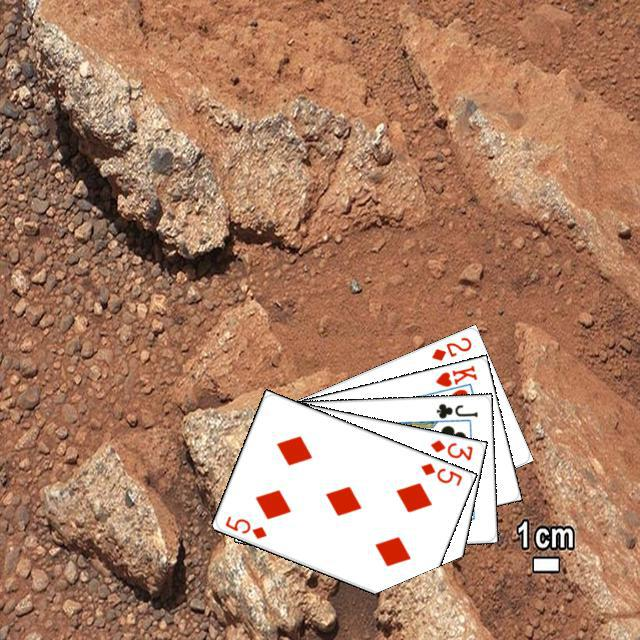2d: (426, 332, 473, 363)
3d: (425, 435, 474, 462)
5d: (220, 511, 269, 541), (416, 458, 464, 488)
Jc: (431, 398, 479, 420)
Kh: (429, 360, 479, 395)
